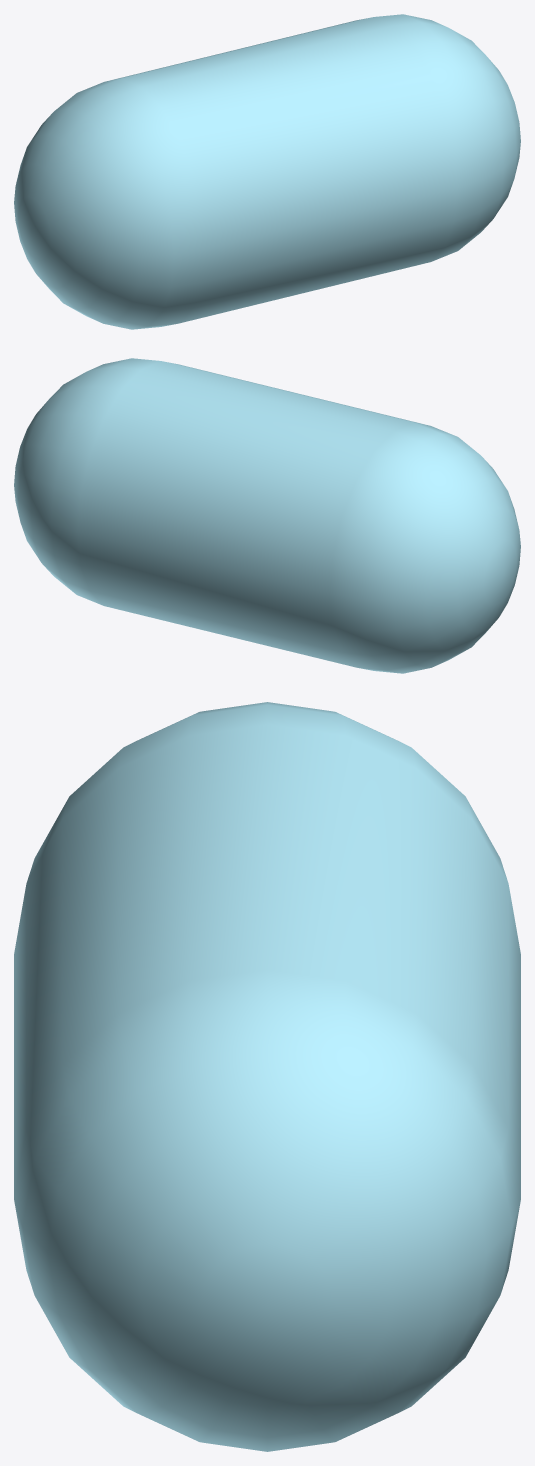
File: StruggleOrbPill.glb
3 renders of one model, top to bottom at view 1: azimuth 30°, elevation 25°; view 2: azimuth 150°, elevation 25°; view 3: azimuth 270°, elevation 25°, orthographic. The views are drawn at different scales.
Visible parts, largest first — view 1: Orb; view 2: Orb; view 3: Orb.
Part boxes in pixels (x1,y1,x2,y2): Orb: (14, 14, 520, 329); Orb: (14, 358, 520, 673); Orb: (14, 702, 520, 1451).
Bounding box in the file's own units: 1.8 × 0.84 × 0.84.
